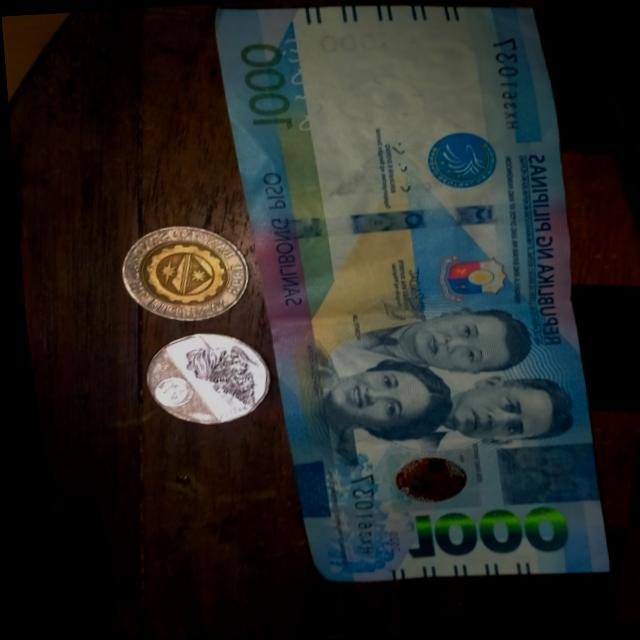concealed_value: (485, 441, 597, 509)
optically_variable_device: (372, 449, 468, 517)
see_through_mark: (272, 28, 325, 140)
value_watermark: (309, 26, 404, 64)
